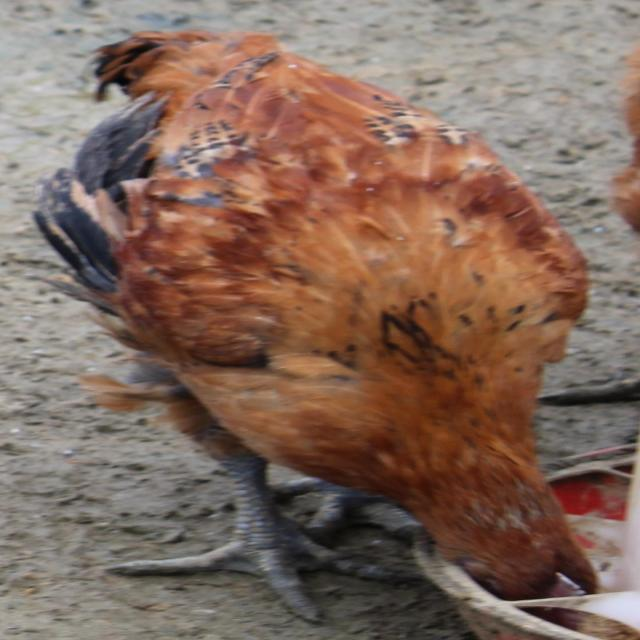hen: (29, 17, 598, 627)
